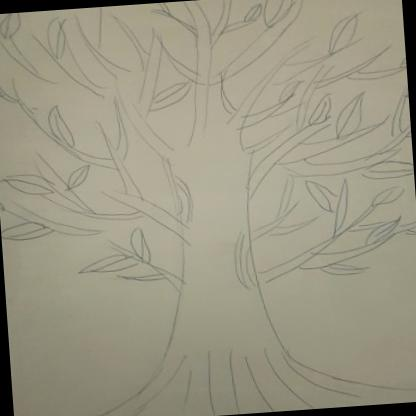branch_cut: (116, 70, 332, 172)
knot: (229, 231, 264, 290), (169, 172, 198, 228)
trunk_straight: (165, 162, 268, 318)
